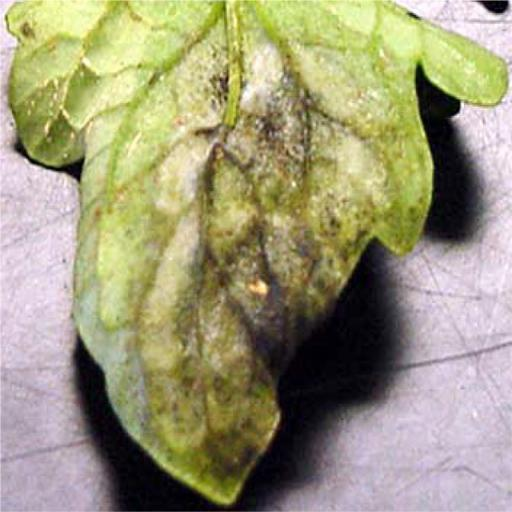disease_tomato: (10, 10, 506, 501)
